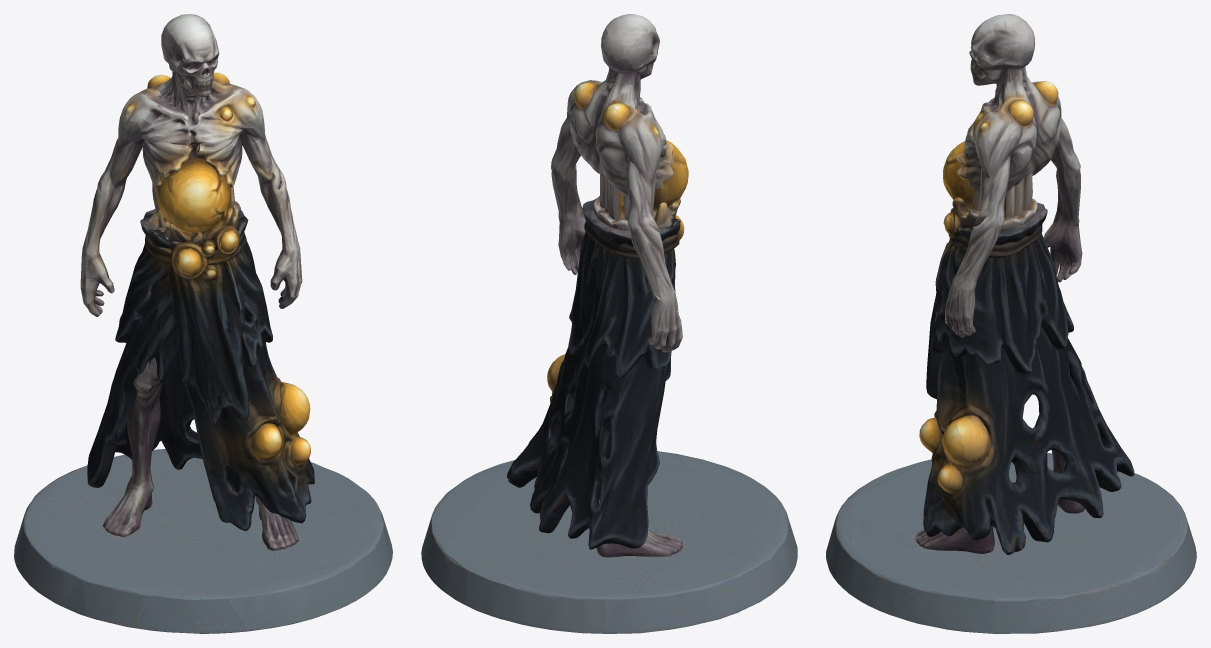
File: polyp.glb
3 views of the same model, side by side, from view 1: azimuth 30°, elevation 25°; view 2: azimuth 150°, elevation 25°; view 3: azimuth 270°, elevation 25° (orthographic). The views are drawn at different scales.
Visible parts, largest first — view 1: output_unwrapped; view 2: output_unwrapped; view 3: output_unwrapped.
Part boxes in pixels (x1=…): output_unwrapped: x1=14, y1=14, x2=392, y2=633; output_unwrapped: x1=421, y1=14, x2=797, y2=633; output_unwrapped: x1=826, y1=14, x2=1196, y2=633.
Bounding box in the file's own units: 1.2 × 1.9 × 1.2.
1 material, 1 textured.
